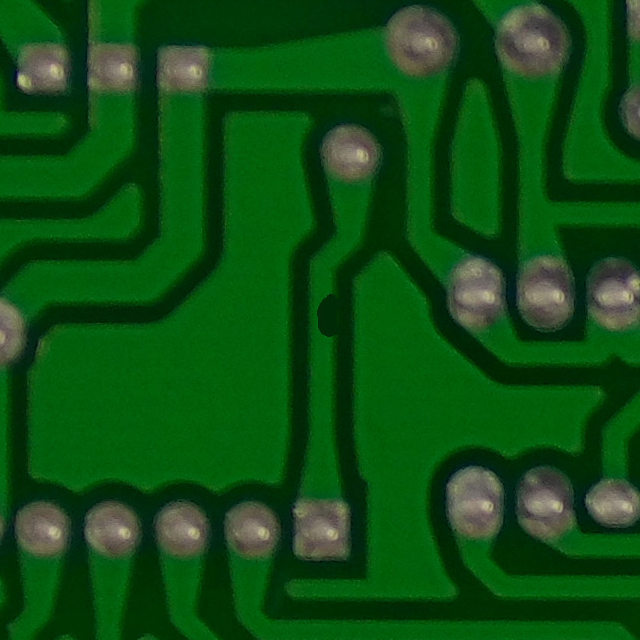mouse_bite: (295, 281, 346, 359)
